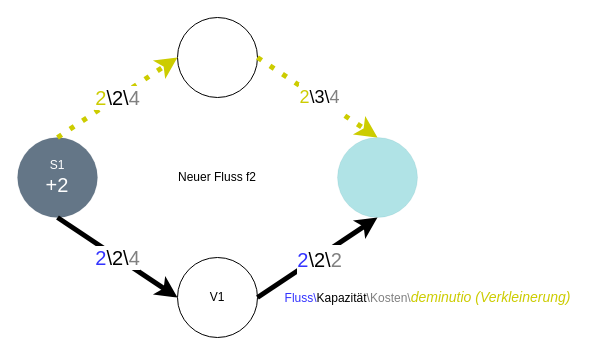
Some shapes in this 594 by 355 pixel diagram are drawn without their labels. Here are the shapes that lost their labels. From the top down, the centre of each, then its label:
At point 217,57: "V2".
At point 377,177: "T1 - 2".
